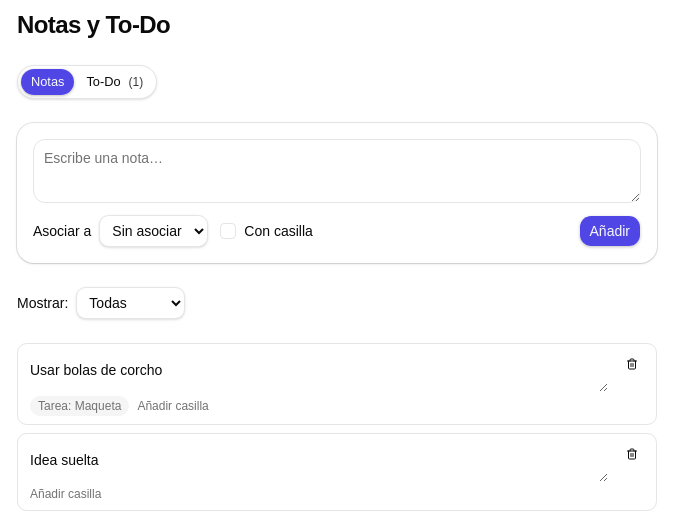
it: PaginaNotas › separa notas y to-dos en dos pestañas
Check: the 2nd text box showing "Idea suelta" is shown, box [30,442,608,482]
Check: the text "Tarea: Maqueta" is shown, box [30,396,129,416]
Click the tab "To-Do (1)": coordinates (115, 82) [75,68,154,96]
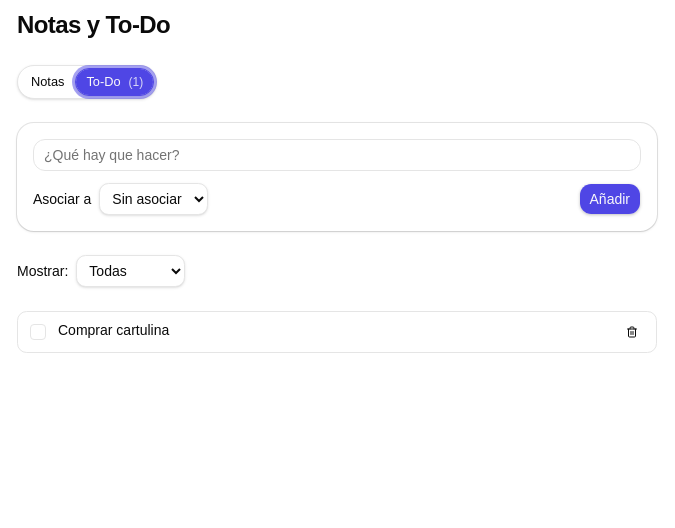
Check: the field showing "Idea suelta" is not shown
Check: the text "Comprar cartulina" is shown, box [58,322,169,338]
